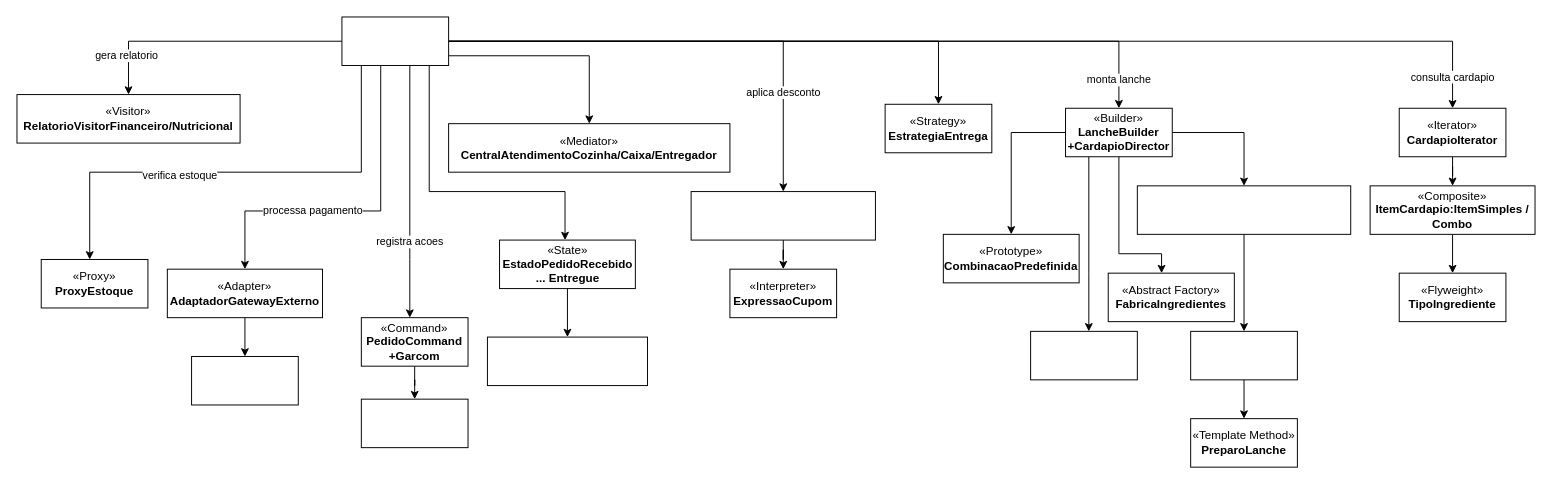
This 1552x485 diagram has some shape labels left out. Here are the shapes that lost their labels. From the top down, the box of each, then its label:
(341, 16, 449, 65): «Facade» PedidoFacade
(690, 191, 875, 240): «Chain of Responsibility» AprovadorDescontoAtendente- Supervisor-Gerente
(1136, 185, 1351, 234): «Decorator» LancheDecorator:Bacon/Ovo/Queijo
(486, 336, 647, 386): «Observer» PedidoObservavel -Painel/Display/App
(1030, 330, 1137, 380): «Factory Method» FabricaLanche
(1190, 330, 1297, 380): «Bridge» ItemMenu xMetodoPreparo
(191, 356, 298, 405): «Singleton» CaixaRegistradora
(360, 398, 468, 448): «Memento» PedidoMemento +HistoricoPedido
